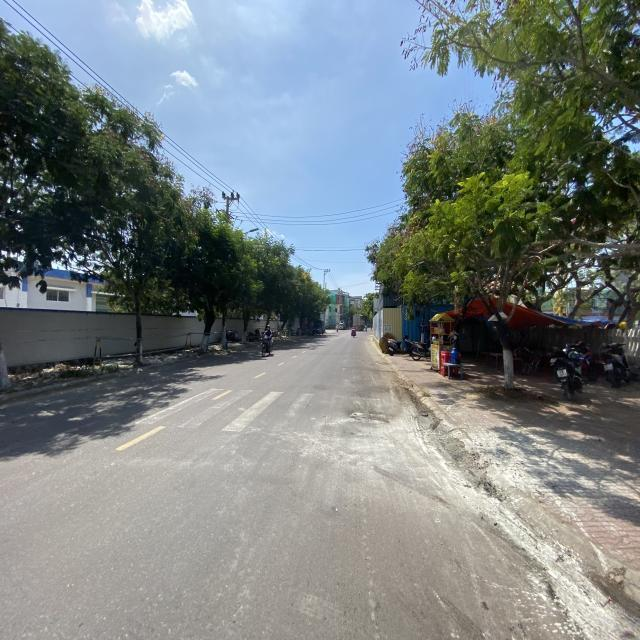walk-crossing: (86, 388, 426, 436)
